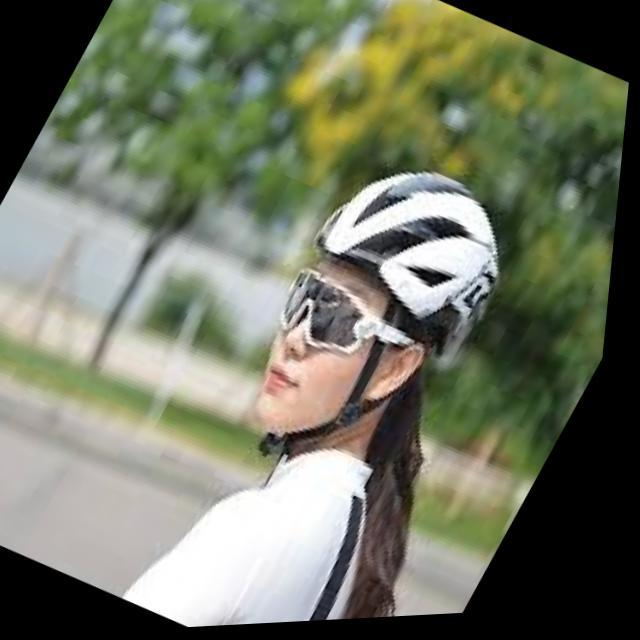Helmet: (243, 144, 508, 463)
